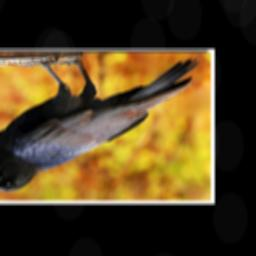Crow: (0, 58, 201, 194)
